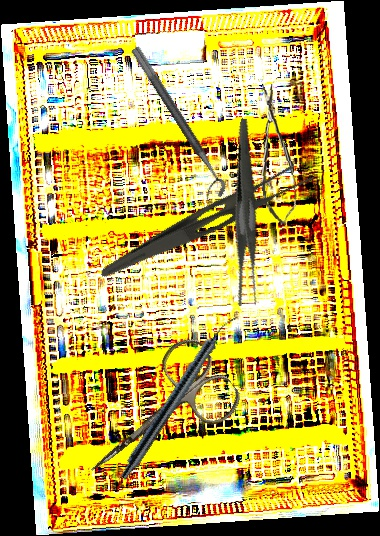Dressing Forceps: (97, 148, 319, 302), (189, 117, 307, 311)
Fixation Ring: (118, 45, 231, 204)
Handpiece: (116, 308, 240, 485)
Iris Scissors: (62, 331, 248, 505)
Micro Scissor: (255, 83, 298, 226)
